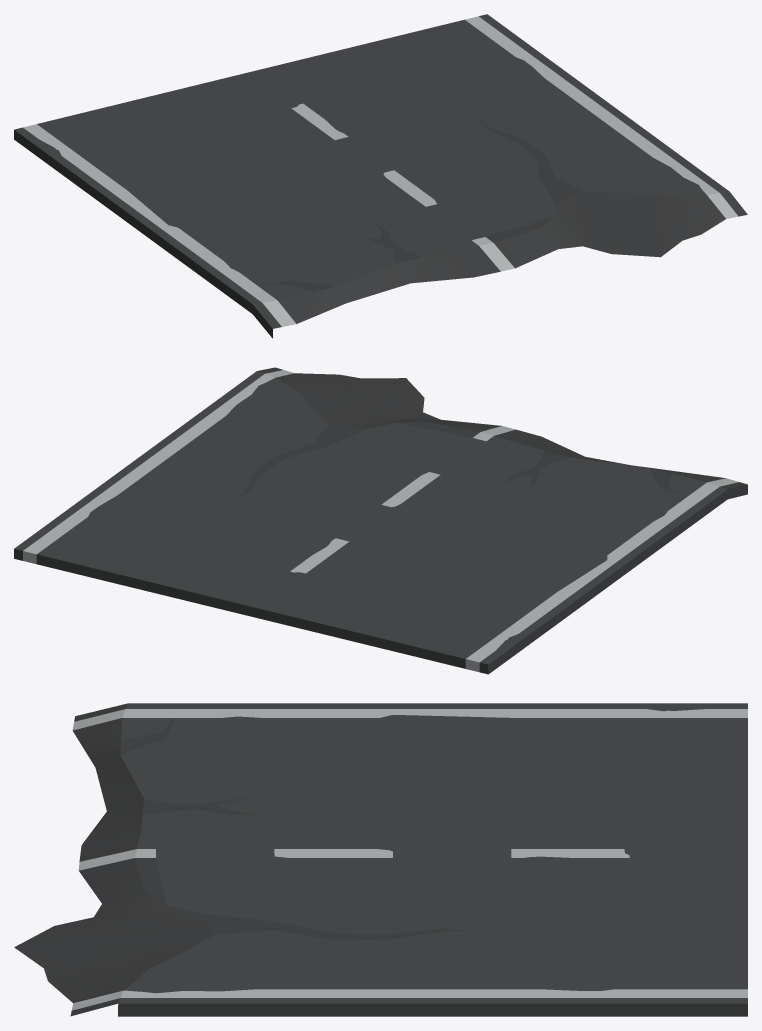
The model's file is 20C_BG_Road_10M_end.fbx.
The picture shows the model from 3 angles, top to bottom: view 1: azimuth 30°, elevation 25°; view 2: azimuth 150°, elevation 25°; view 3: azimuth 270°, elevation 25°; orthographic projection. The views are drawn at different scales.
Parts seen in each view (by area): view 1: 20C_BG_Road_10M_end; view 2: 20C_BG_Road_10M_end; view 3: 20C_BG_Road_10M_end.
Boxes of the visible parts, bbox=[...] form: 20C_BG_Road_10M_end: bbox=[14, 14, 747, 338]; 20C_BG_Road_10M_end: bbox=[14, 367, 747, 674]; 20C_BG_Road_10M_end: bbox=[14, 703, 747, 1016].
Bounding box in the file's own units: 100 × 3.98 × 103.
Materials: 1 (1 with a texture image).
